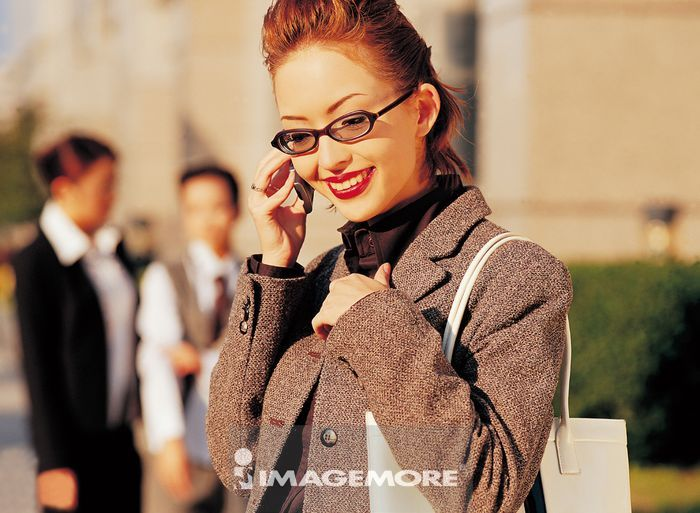talk: (247, 90, 383, 261)
